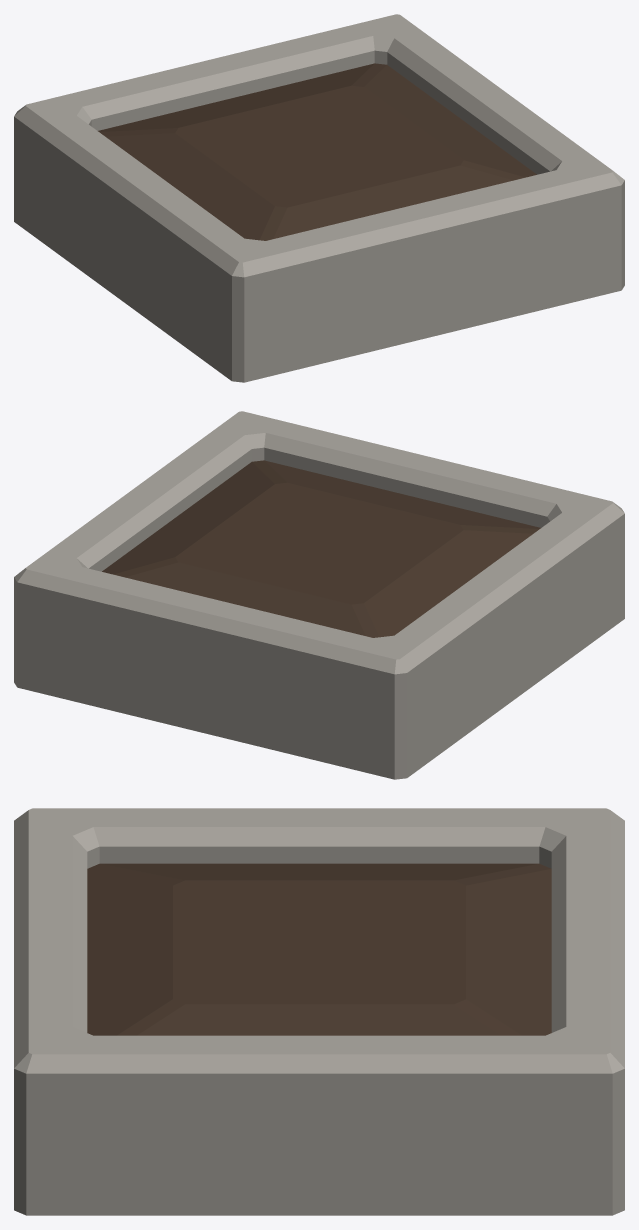
Rendered from SM_Street_TreePit_Curb_50_01.gltf.
3 renders of one model, top to bottom at view 1: azimuth 30°, elevation 25°; view 2: azimuth 150°, elevation 25°; view 3: azimuth 270°, elevation 25°, orthographic. The views are drawn at different scales.
Parts seen in each view (by area): view 1: SM_Street_TreePit_Curb_50_01; view 2: SM_Street_TreePit_Curb_50_01; view 3: SM_Street_TreePit_Curb_50_01.
Boxes of the visible parts, bbox=[...] form: SM_Street_TreePit_Curb_50_01: bbox=[14, 14, 624, 382]; SM_Street_TreePit_Curb_50_01: bbox=[14, 411, 624, 779]; SM_Street_TreePit_Curb_50_01: bbox=[14, 808, 624, 1215].
Bounding box in the file's own units: 0.5 × 0.14 × 0.5.
1 material, 1 textured.
